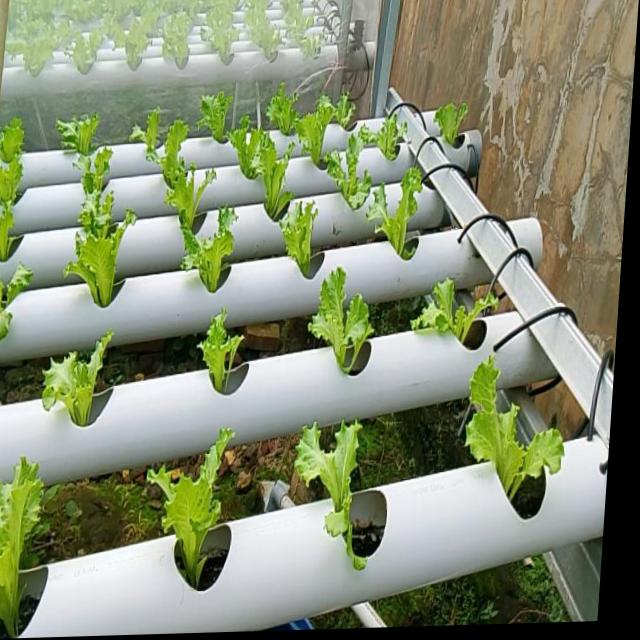Baby: (470, 351, 569, 495), (150, 425, 235, 585), (298, 417, 371, 566), (0, 456, 46, 637), (311, 262, 377, 368), (45, 328, 114, 424), (150, 140, 219, 232), (415, 269, 507, 334), (369, 162, 426, 255), (242, 127, 297, 220), (71, 222, 130, 306), (183, 83, 241, 168), (298, 90, 358, 164), (326, 125, 375, 208), (78, 166, 120, 255), (200, 305, 245, 388), (196, 206, 237, 290), (282, 198, 321, 275), (0, 263, 36, 340), (363, 104, 411, 158), (130, 107, 171, 163), (0, 126, 26, 208), (58, 113, 101, 156), (268, 81, 301, 134), (437, 96, 472, 137)
